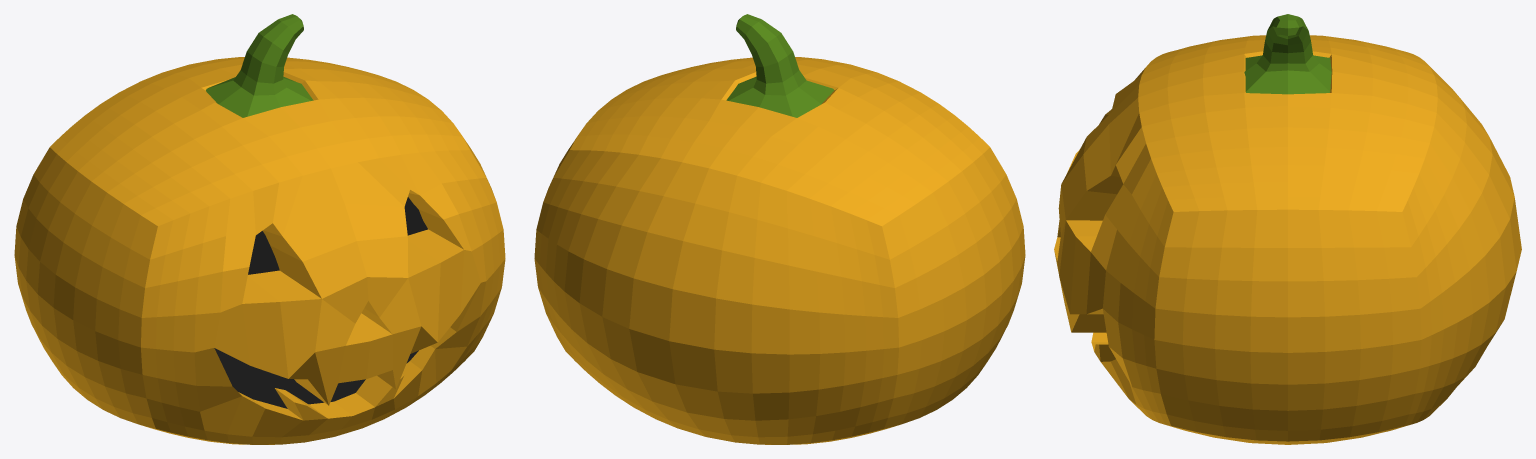
The model's file is Calabaza_ConUvMap_ColorBase.fbx.
3 views of the same model, side by side, from view 1: azimuth 30°, elevation 25°; view 2: azimuth 150°, elevation 25°; view 3: azimuth 270°, elevation 25° (orthographic). The views are drawn at different scales.
Parts seen in each view (by area): view 1: Cube; view 2: Cube; view 3: Cube.
Boxes of the visible parts, bbox=[...] form: Cube: bbox=[14, 14, 505, 444]; Cube: bbox=[534, 14, 1025, 444]; Cube: bbox=[1054, 14, 1521, 444].
Bounding box in the file's own units: 1137 × 1021 × 1056.
